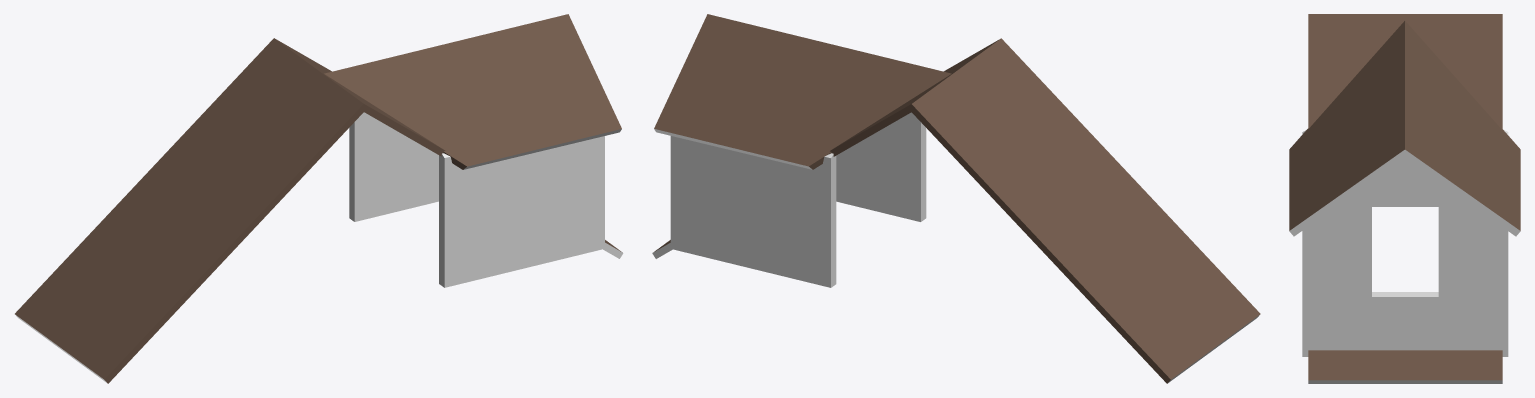
File: Roof2_C2_04.fbx
3 renders of one model, left to right at view 1: azimuth 30°, elevation 25°; view 2: azimuth 150°, elevation 25°; view 3: azimuth 270°, elevation 25°, orthographic. The views are drawn at different scales.
Visible parts, largest first — view 1: Roof2_C2_04; view 2: Roof2_C2_04; view 3: Roof2_C2_04.
Boxes of the visible parts, x1=… form: Roof2_C2_04: x1=15, y1=14, x2=623, y2=383; Roof2_C2_04: x1=652, y1=14, x2=1260, y2=383; Roof2_C2_04: x1=1289, y1=14, x2=1520, y2=383.
Size of the model in its own units: 833 by 334 by 298.
